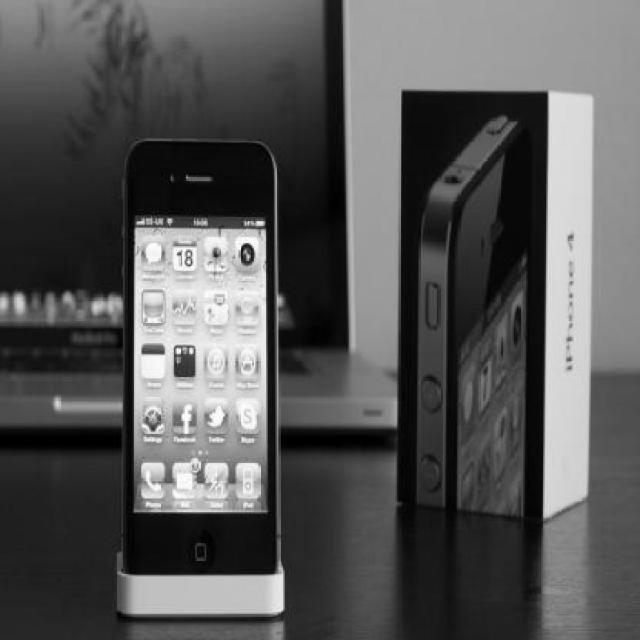fake: (123, 140, 283, 577), (416, 117, 526, 517)
